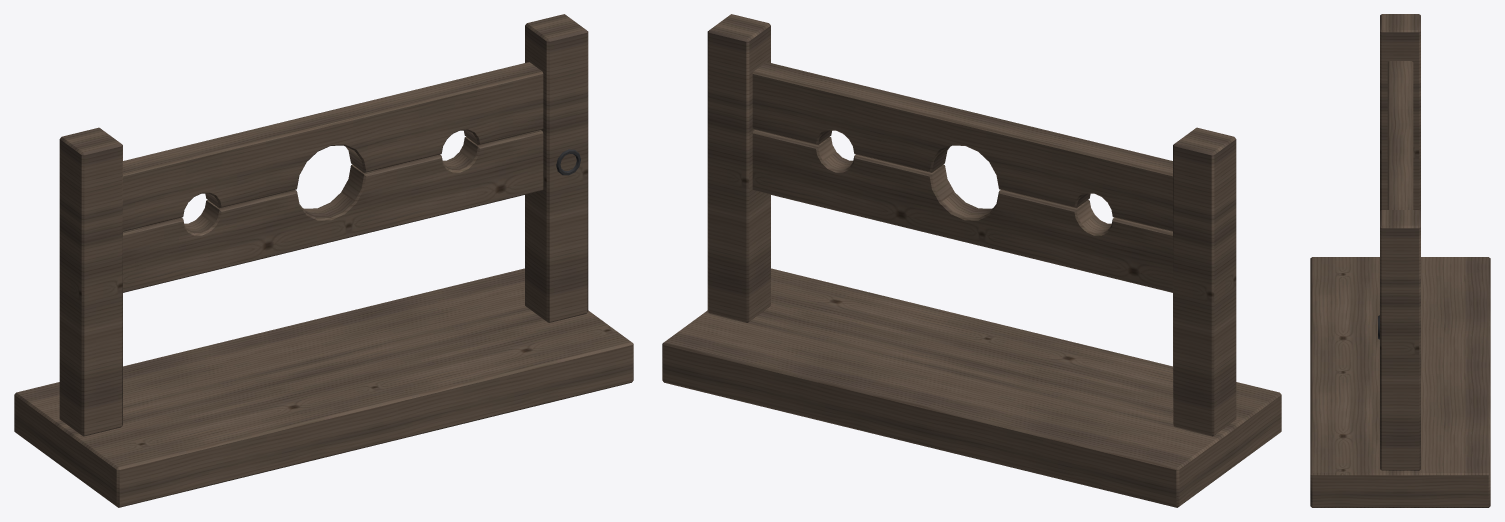
The model's file is stocks.glb.
The picture shows the model from 3 angles, left to right: view 1: azimuth 30°, elevation 25°; view 2: azimuth 150°, elevation 25°; view 3: azimuth 270°, elevation 25°; orthographic projection. The views are drawn at different scales.
Visible parts, largest first — view 1: Stocks; view 2: Stocks; view 3: Stocks.
Boxes of the visible parts, bbox=[...] form: Stocks: bbox=[14, 14, 633, 507]; Stocks: bbox=[662, 14, 1281, 507]; Stocks: bbox=[1310, 14, 1490, 507].
Size of the model in its own units: 2 by 1.2 by 0.7.
Materials: 2 (1 with a texture image).
